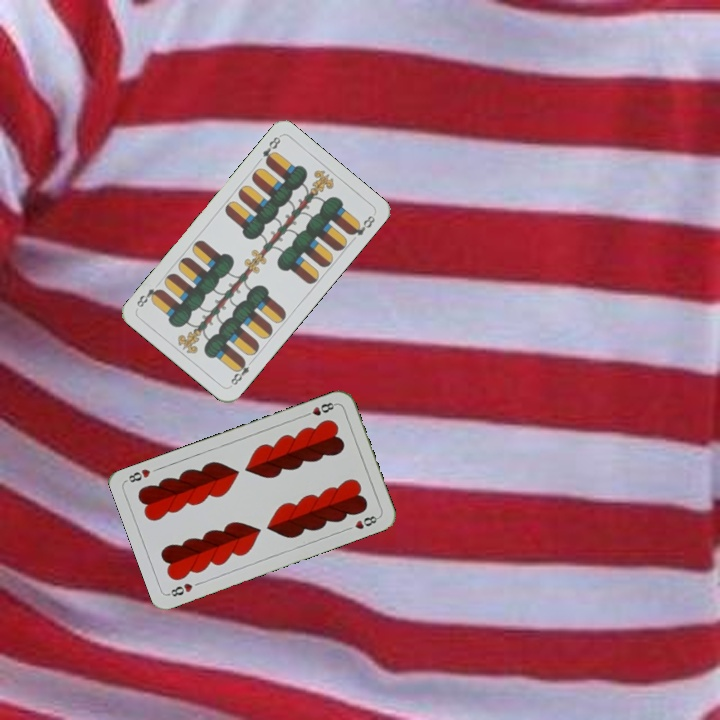E8: (227, 355, 257, 388), (258, 132, 283, 167)
H8: (300, 398, 339, 420), (164, 579, 195, 599)
